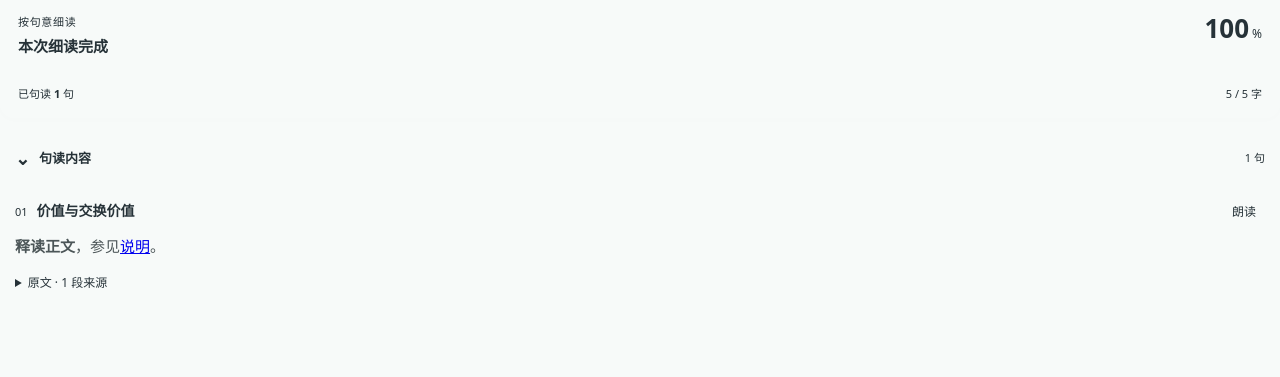
Test: 句读朗读失败沿用共享控制栏明确报错
Click the button "朗读".
click(1244, 212)  # box [1223, 200, 1265, 224]
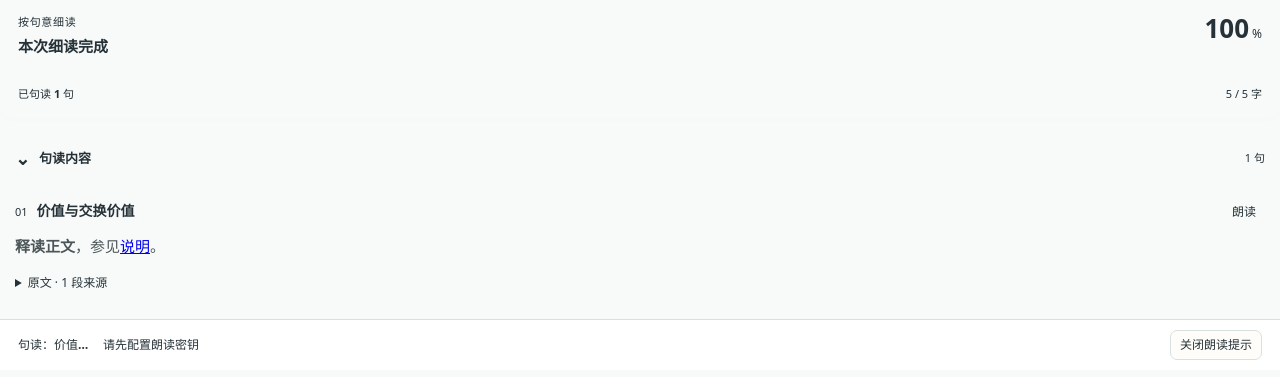
Expected: the message "请先配置朗读密钥" is shown, [103, 336, 199, 353]
